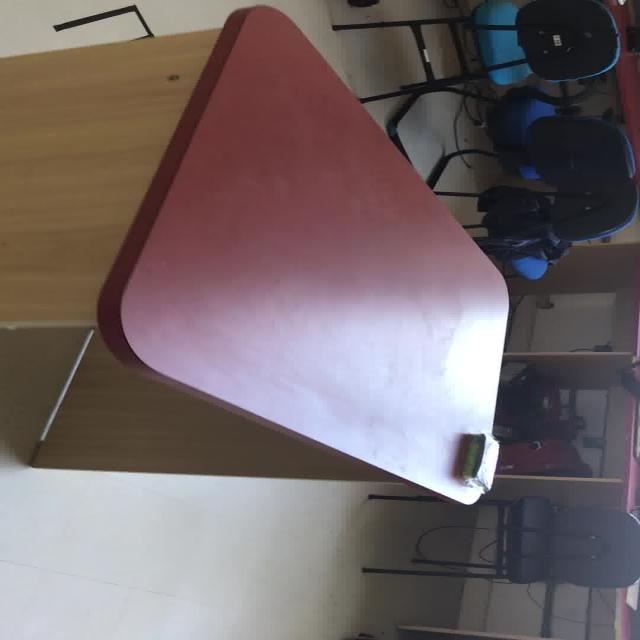sponge: (92, 4, 510, 504)
